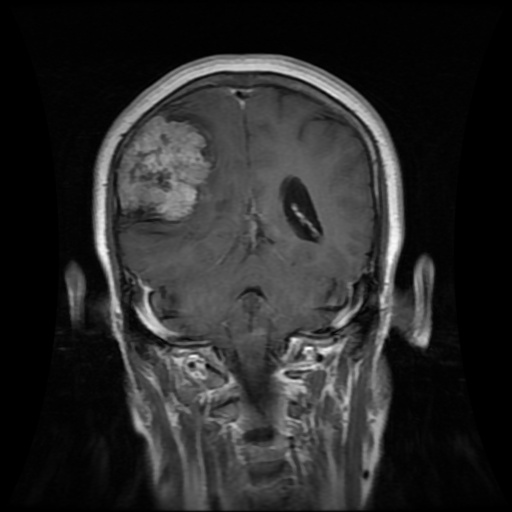meningioma: (118, 115, 212, 219)
